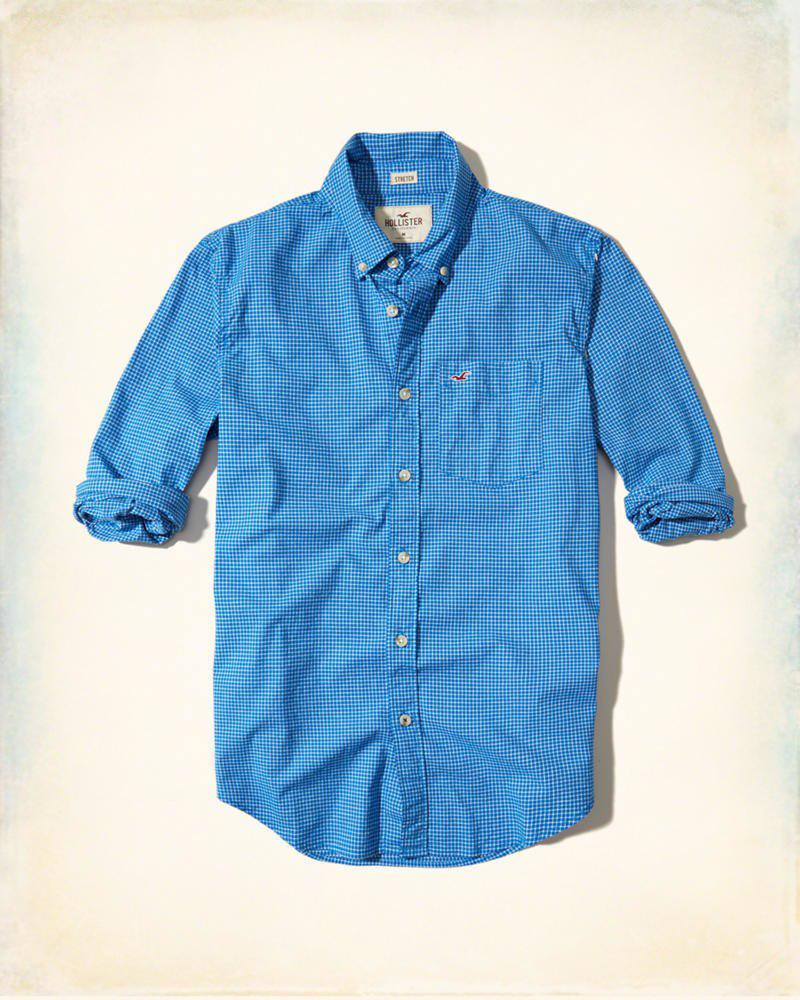teeshirt: (67, 122, 733, 880)
